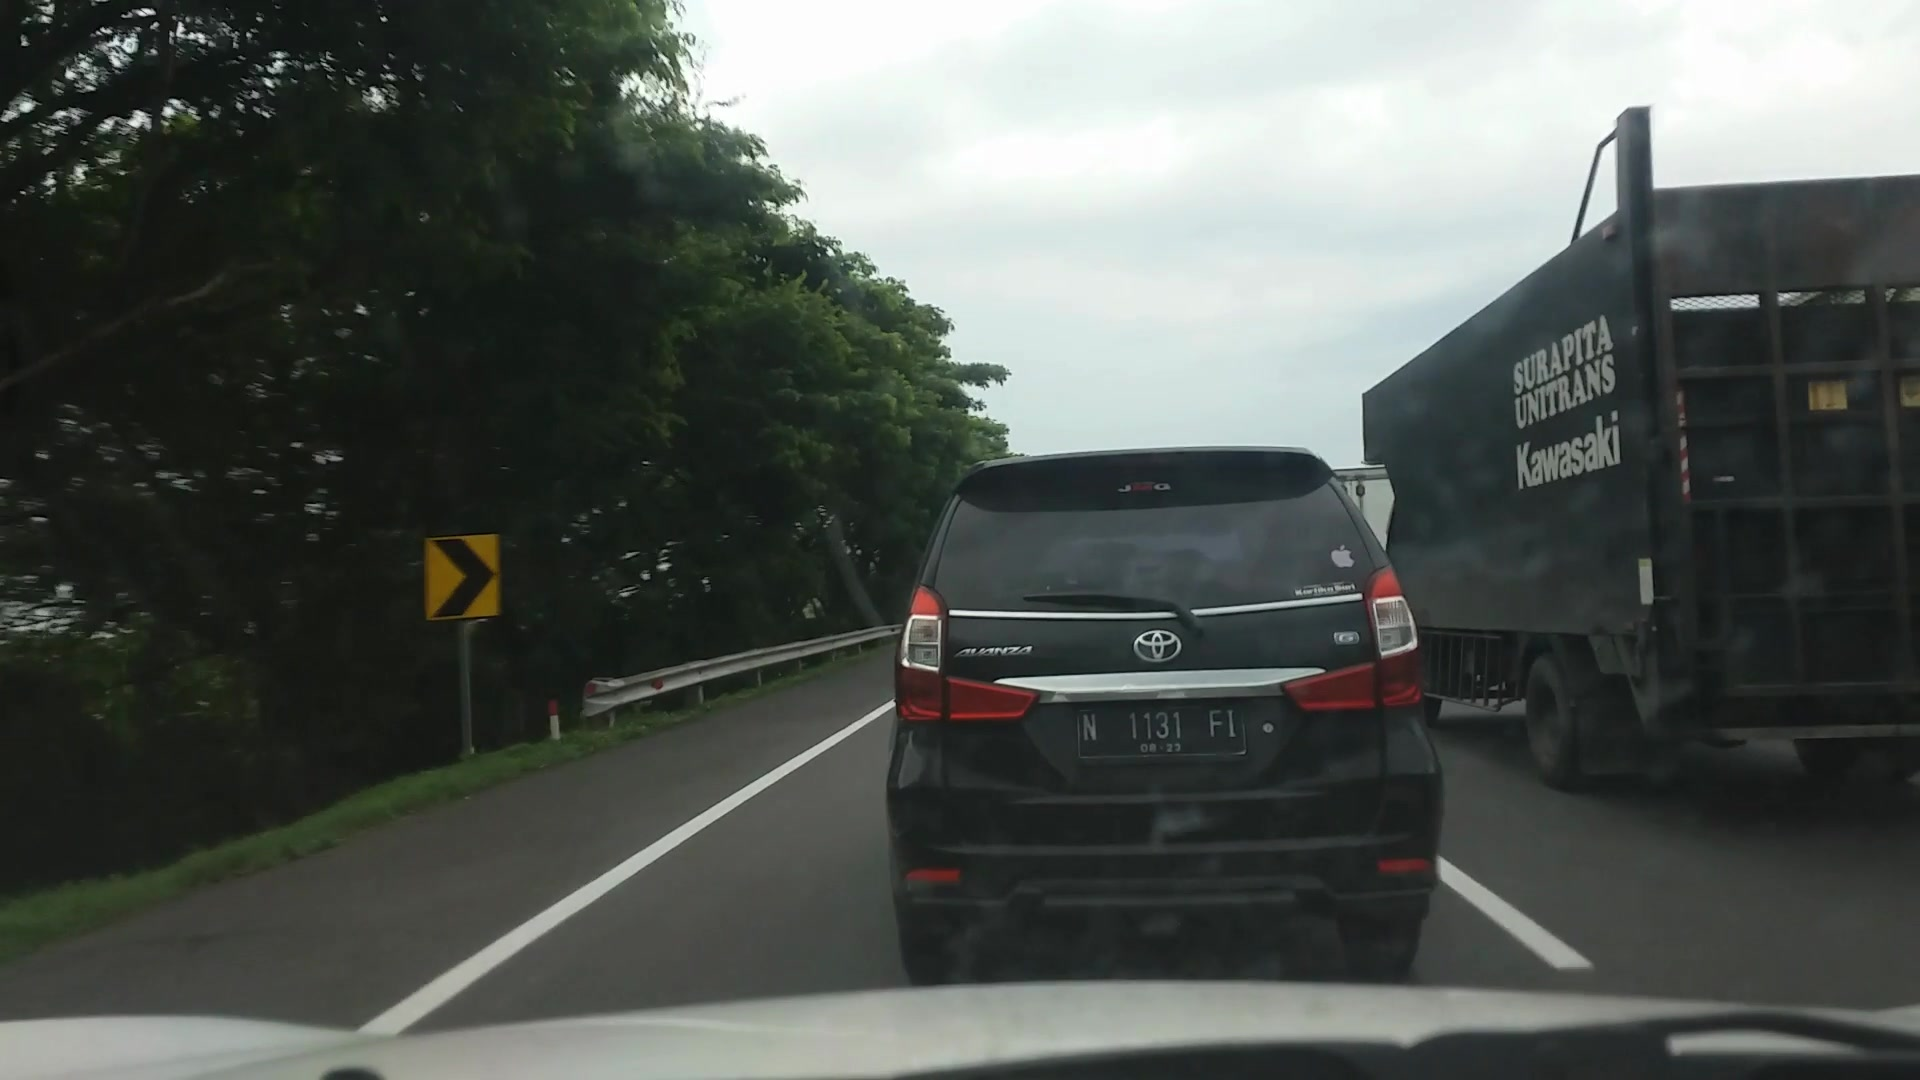plate_positive: (1075, 704, 1245, 757)
